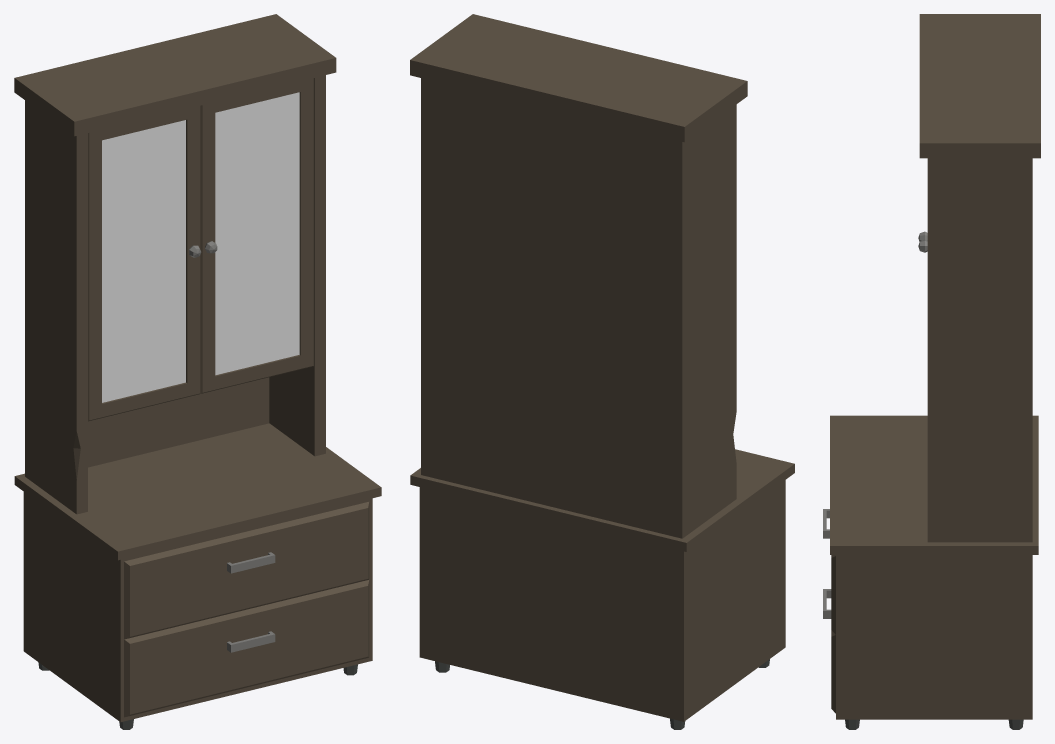
The model's file is SM_Props_Interior_House_Room_Dresser_03.fbx.
3 views of the same model, side by side, from view 1: azimuth 30°, elevation 25°; view 2: azimuth 150°, elevation 25°; view 3: azimuth 270°, elevation 25° (orthographic). The views are drawn at different scales.
Visible parts, largest first — view 1: SM_Props_Interior_House_Room_Dresser_03; view 2: SM_Props_Interior_House_Room_Dresser_03; view 3: SM_Props_Interior_House_Room_Dresser_03.
Boxes of the visible parts, <box> form: SM_Props_Interior_House_Room_Dresser_03: <box>14,14,381,729</box>; SM_Props_Interior_House_Room_Dresser_03: <box>410,14,794,729</box>; SM_Props_Interior_House_Room_Dresser_03: <box>823,14,1040,729</box>.
Size of the model in its own units: 94.12 by 200 by 66.57.
